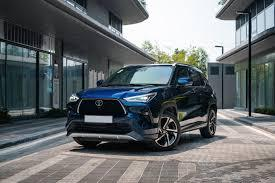toyota: (93, 98, 103, 107)
